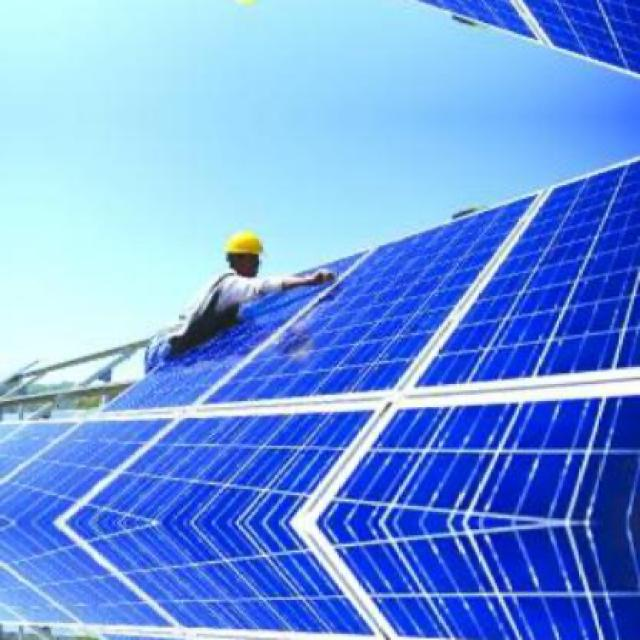con casco: (195, 210, 289, 304)
